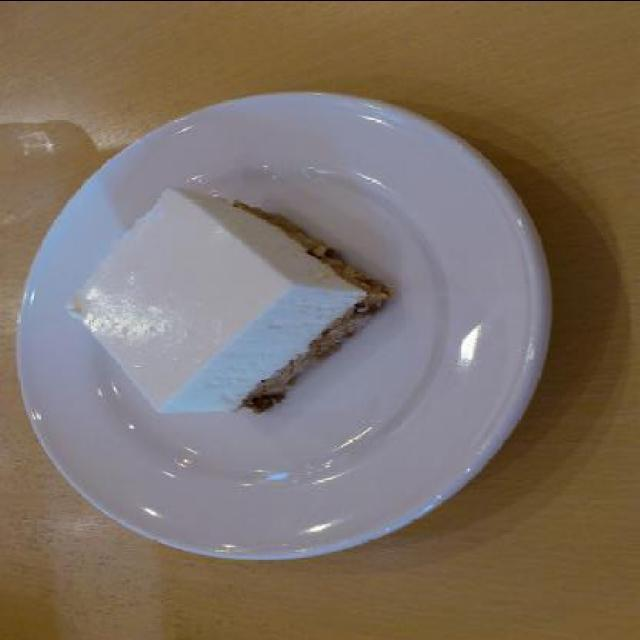Rare cheese cake: (34, 166, 392, 440)
